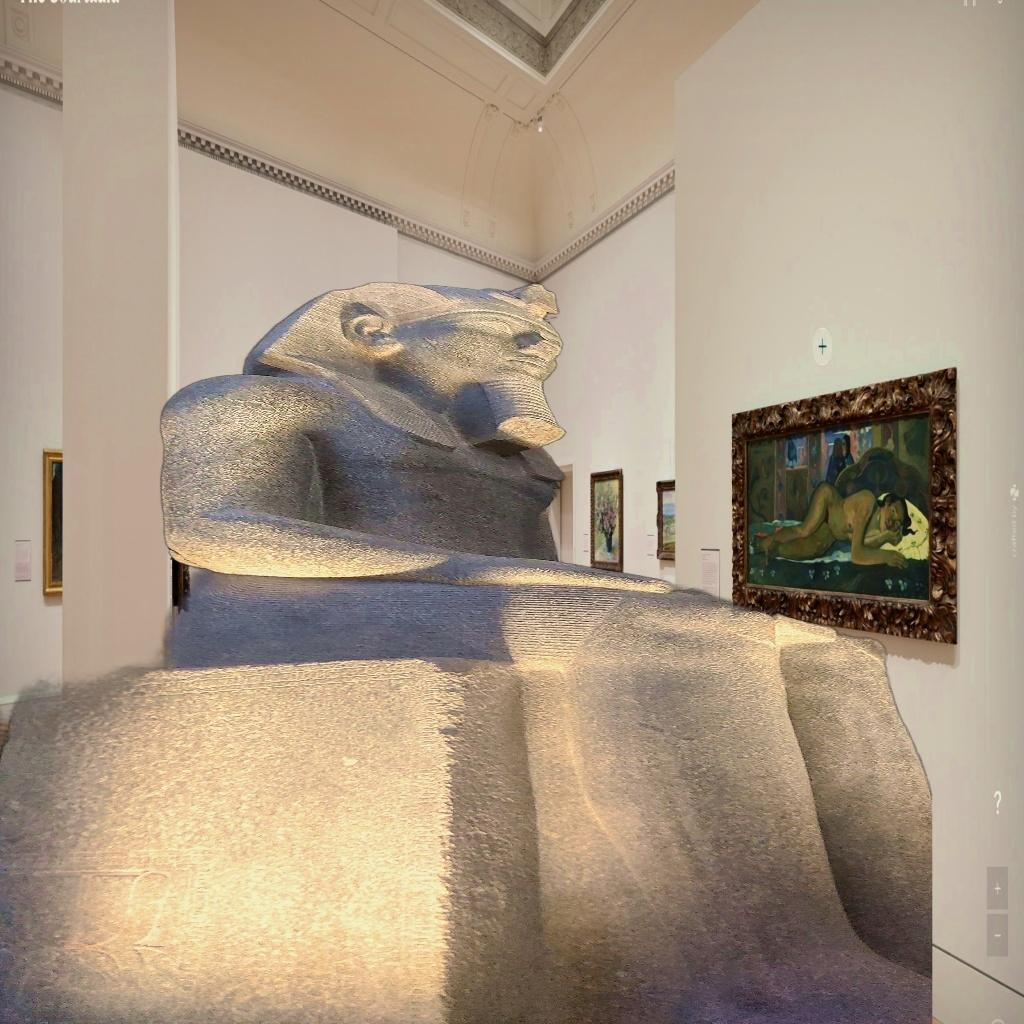Seated Statue of Amenhotep III: (0, 277, 932, 1024)
